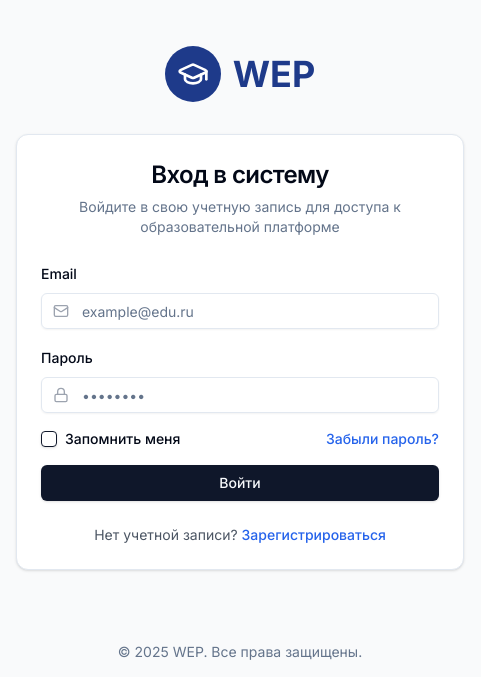
Test: Блок авторизации › Ошибка при неверном пароле
In the field named "email": [240, 311] box [41,293,439,329], type "teacher@school.edu"
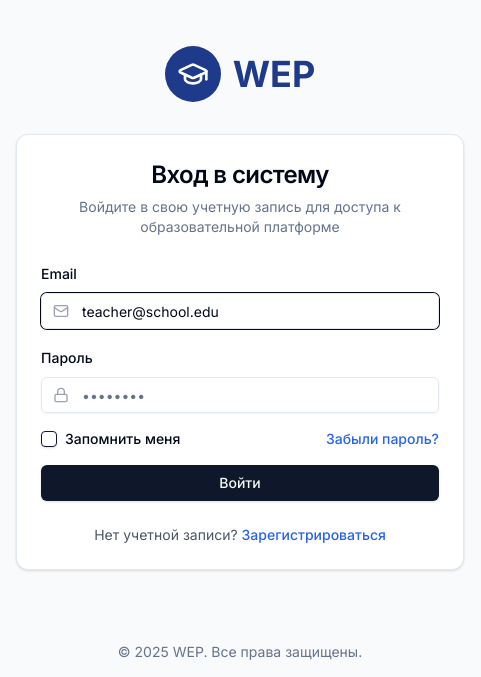
In the password field named "password": [240, 395] box [41,377,439,413], type "wrongpass"
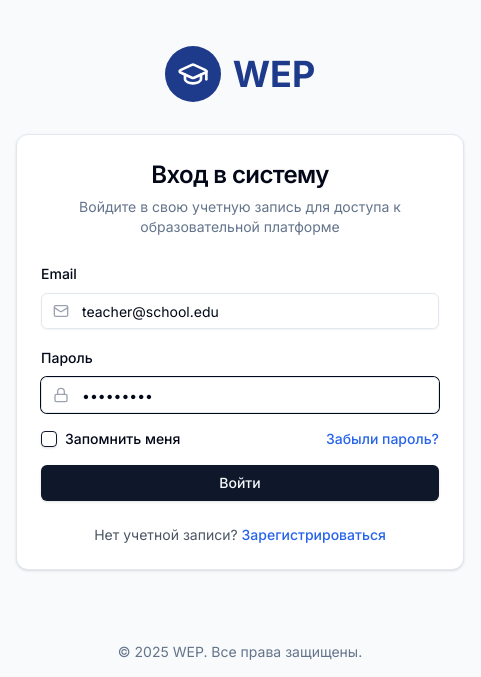
Click the submit button: [240, 483] box [41,465,439,501]
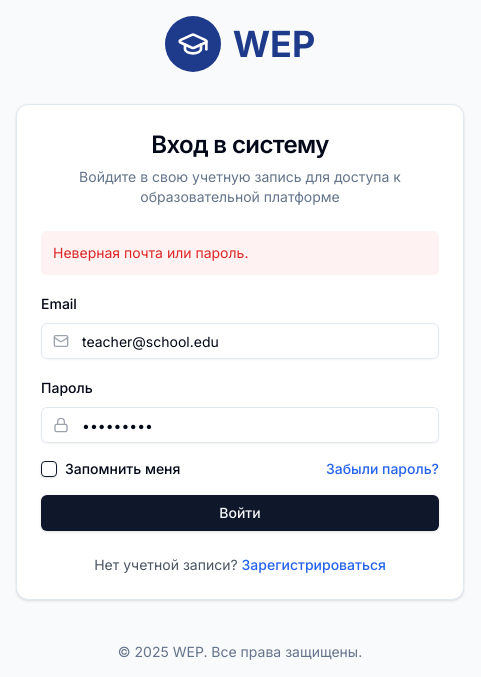
Now the text "Неверная почта или пароль." is shown, box [41,231,439,275]
